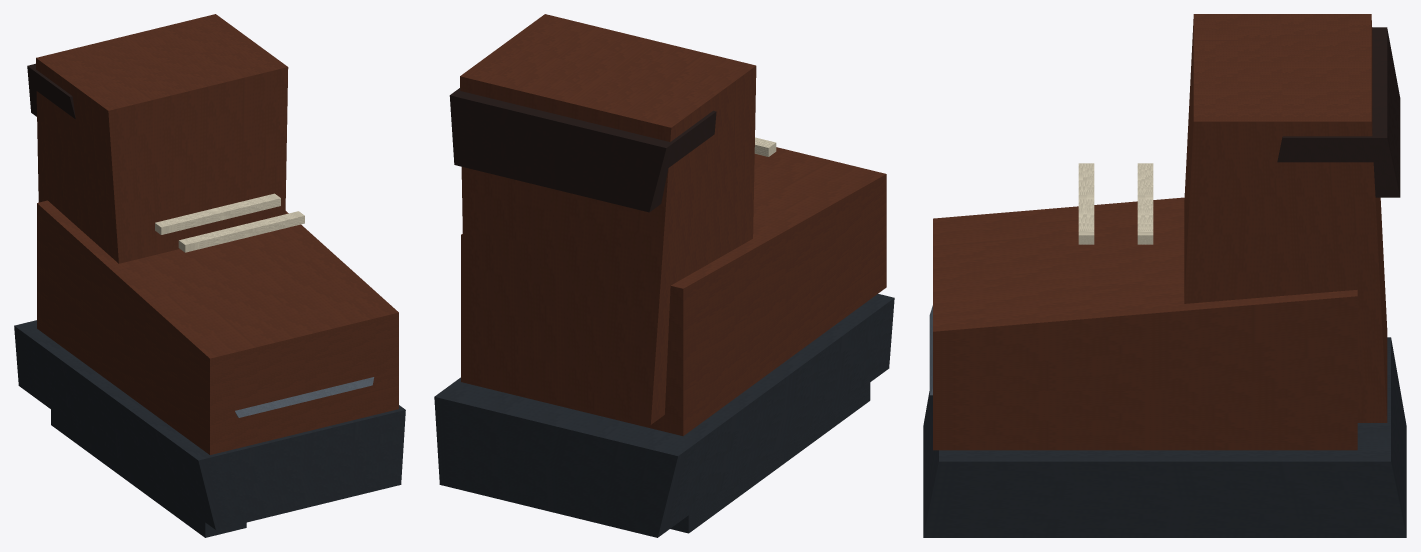
Rendered from work_boot.gltf.
The picture shows the model from 3 angles, left to right: view 1: azimuth 30°, elevation 25°; view 2: azimuth 150°, elevation 25°; view 3: azimuth 270°, elevation 25°; orthographic projection. The views are drawn at different scales.
Visible parts, largest first — view 1: Foundry Work Boot; view 2: Foundry Work Boot; view 3: Foundry Work Boot.
Boxes of the visible parts, x1,y1,x2,y2 form: Foundry Work Boot: (14,14,405,537); Foundry Work Boot: (434,14,894,537); Foundry Work Boot: (923,14,1406,537).
Bounding box in the file's own units: 0.225 × 0.369 × 0.37.
5 materials, 5 textured.
